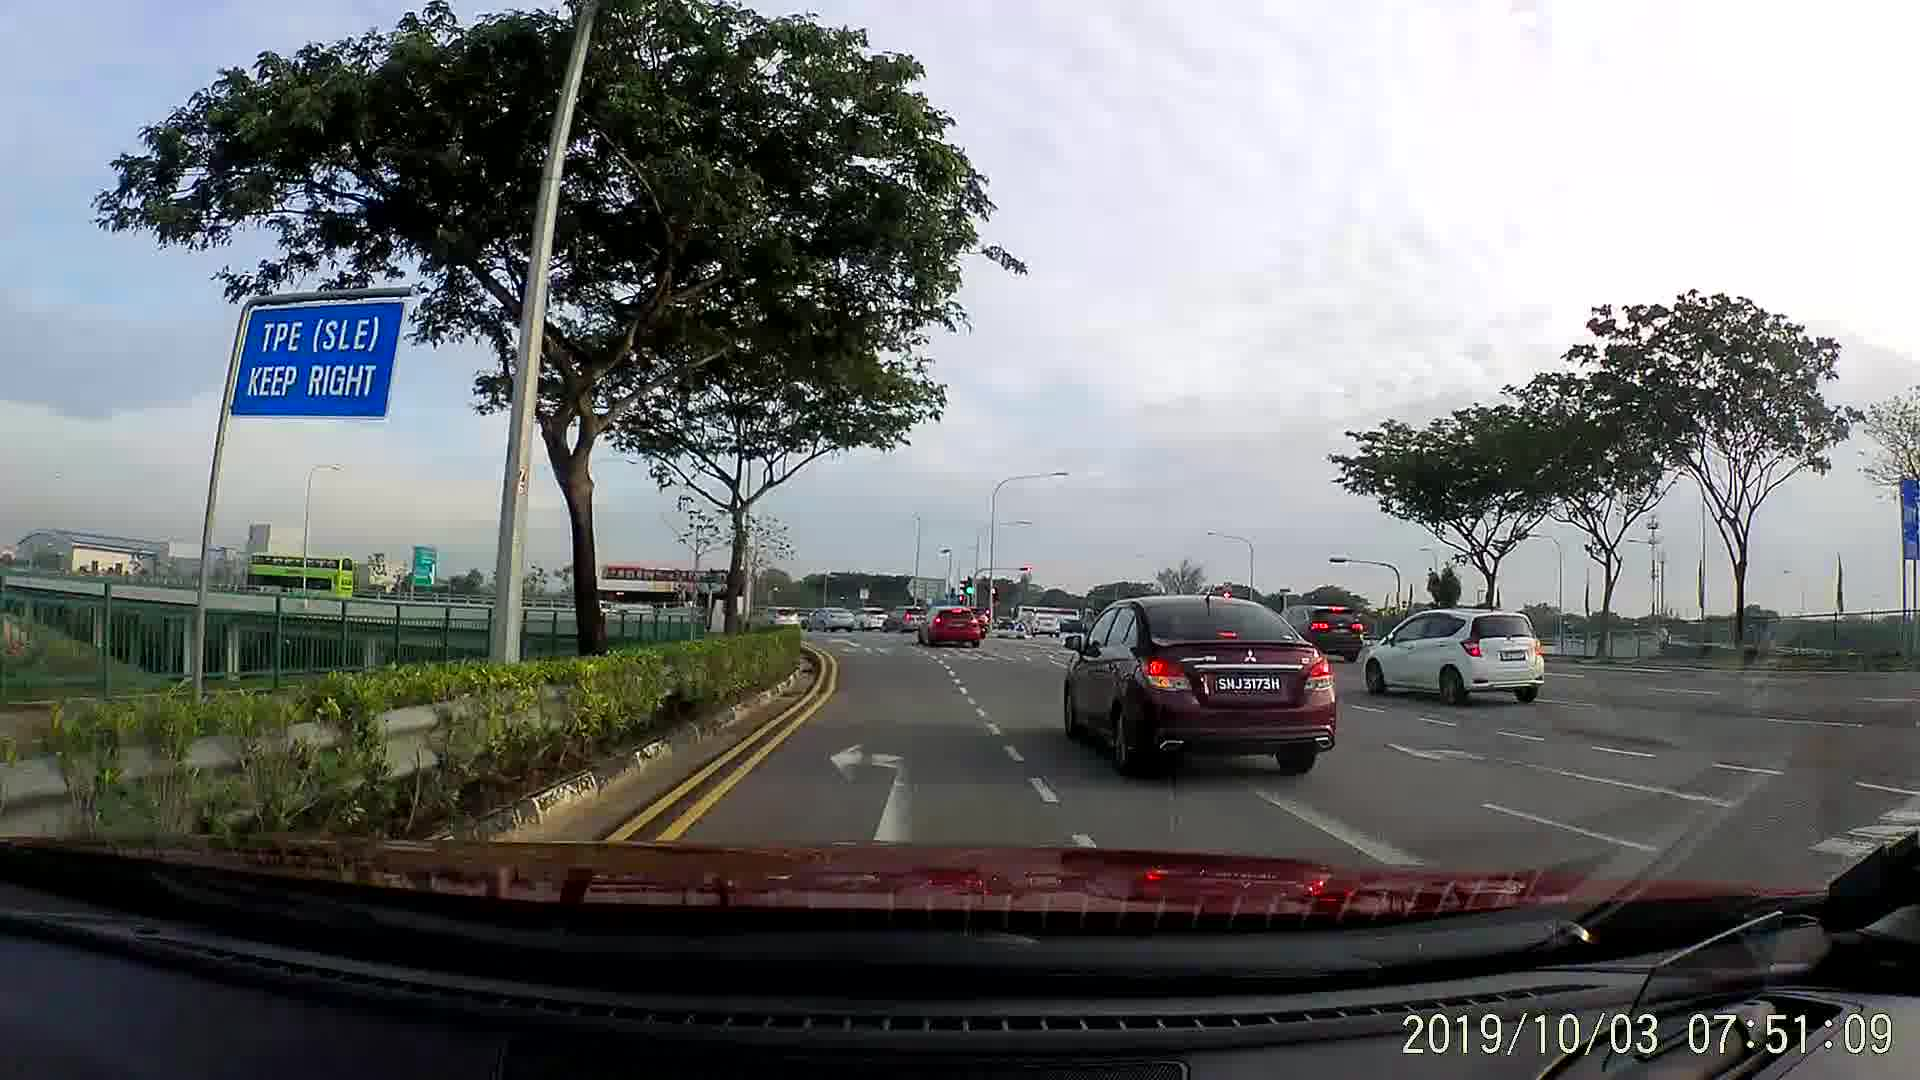bus: (593, 556, 756, 626), (243, 546, 355, 605)
car: (1055, 591, 1346, 789), (1356, 597, 1551, 713), (1291, 607, 1365, 659), (916, 596, 985, 653), (882, 603, 924, 630), (814, 607, 853, 632)
